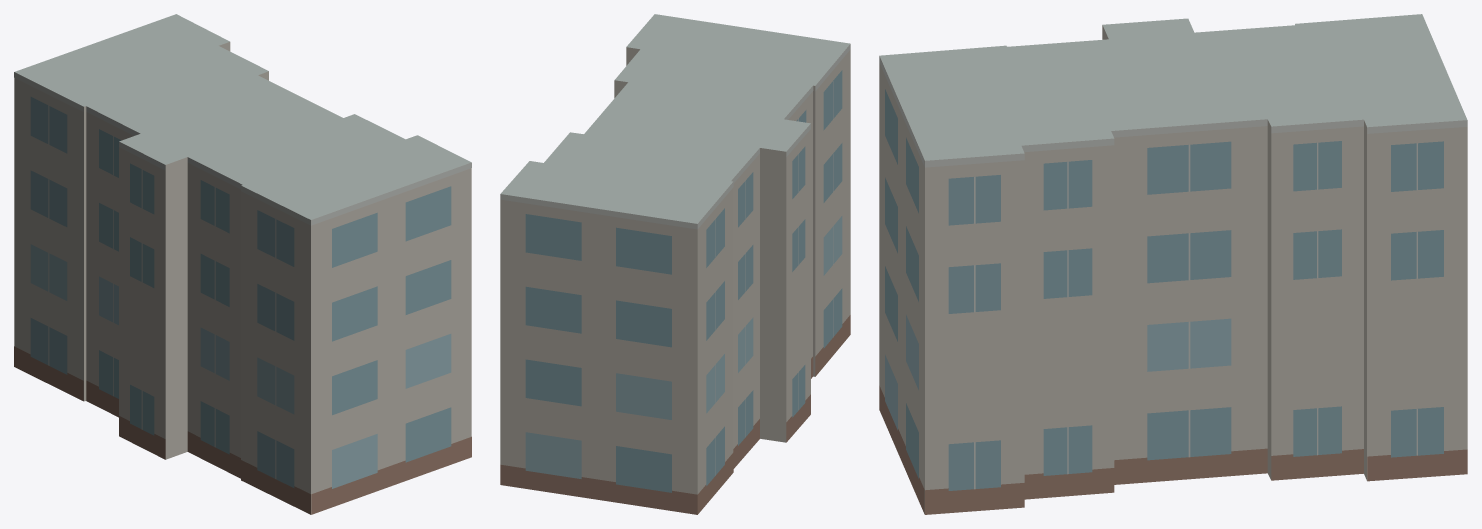
The model's file is survey-upis-32702876.glb.
The picture shows the model from 3 angles, left to right: view 1: azimuth 30°, elevation 25°; view 2: azimuth 150°, elevation 25°; view 3: azimuth 270°, elevation 25°; orthographic projection. The views are drawn at different scales.
Visible parts, largest first — view 1: survey-upis-32702876.tmp; view 2: survey-upis-32702876.tmp; view 3: survey-upis-32702876.tmp.
Boxes of the visible parts, x1,y1,x2,y2 form: survey-upis-32702876.tmp: [14, 14, 471, 514]; survey-upis-32702876.tmp: [500, 14, 850, 514]; survey-upis-32702876.tmp: [879, 14, 1467, 514].
Size of the model in its own units: 11.39 by 12.8 by 19.28.
